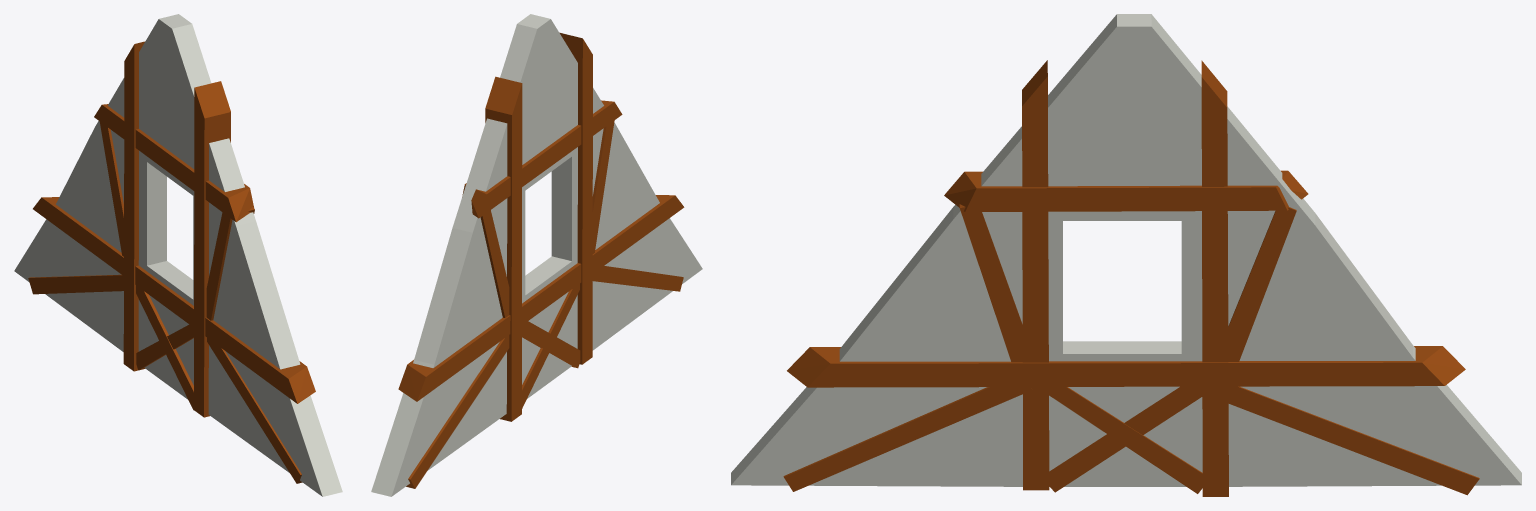
Rendered from NormalRoofWallWindowed2.fbx.
The picture shows the model from 3 angles, left to right: view 1: azimuth 30°, elevation 25°; view 2: azimuth 150°, elevation 25°; view 3: azimuth 270°, elevation 25°; orthographic projection. The views are drawn at different scales.
Parts seen in each view (by area): view 1: NormalRoofWallWindowed2; view 2: NormalRoofWallWindowed2; view 3: NormalRoofWallWindowed2.
Boxes of the visible parts, box(x1,y1,x2,y2) form: NormalRoofWallWindowed2: box(14, 14, 342, 496); NormalRoofWallWindowed2: box(371, 14, 702, 496); NormalRoofWallWindowed2: box(731, 14, 1521, 496).
Bounding box in the file's own units: 104 × 1304 × 1993.
